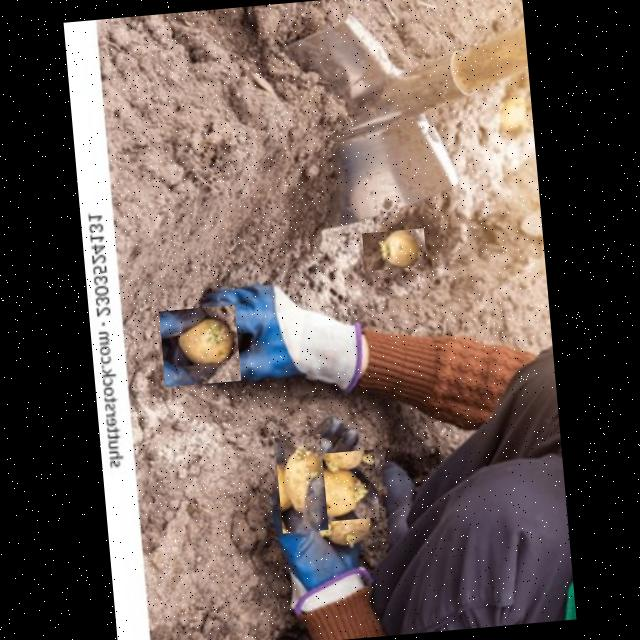Sprouted potato: (158, 304, 240, 386), (274, 432, 328, 532), (308, 448, 380, 521), (314, 494, 388, 558), (362, 227, 426, 270)
